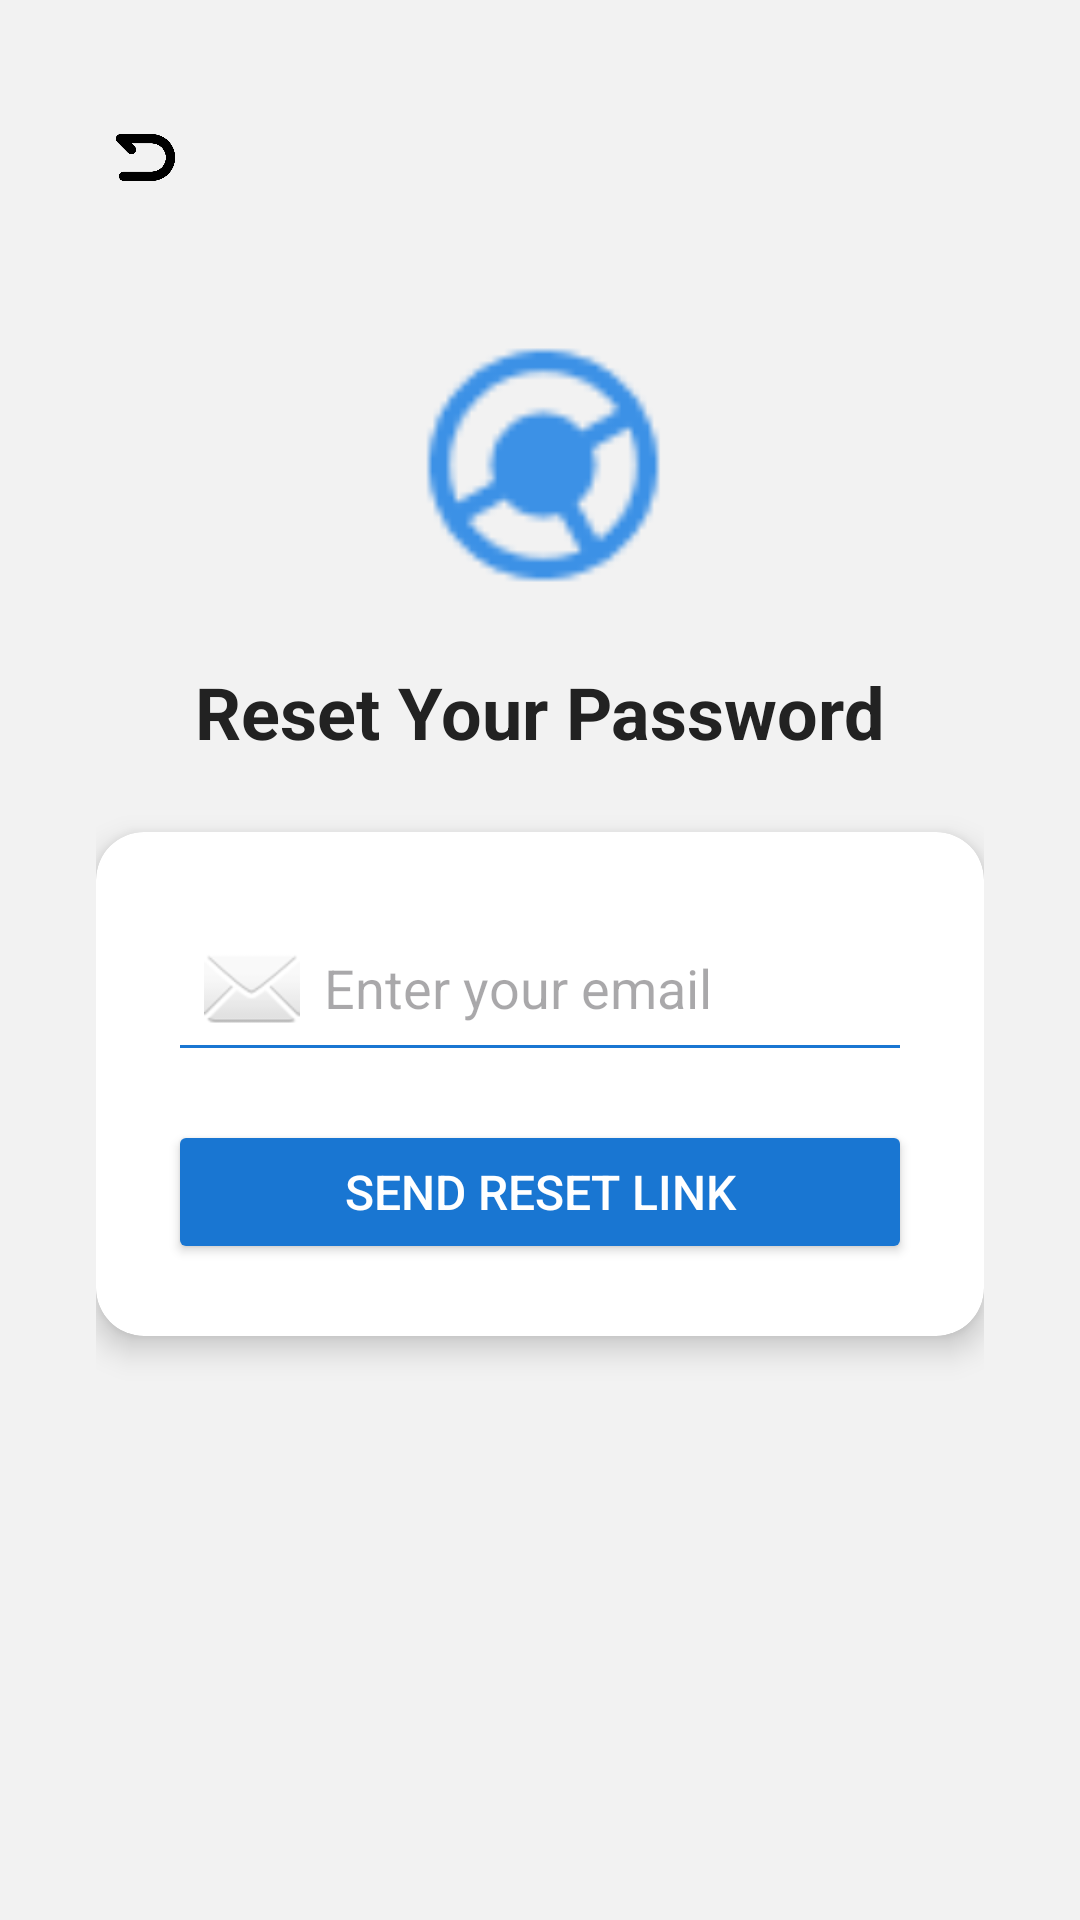

Icons on this 1080w x 1920h Android screen, each with its box as {"left": x1, "top": y1, "right": x2, "bottom": y2}:
Back: {"left": 116, "top": 134, "right": 175, "bottom": 181}
